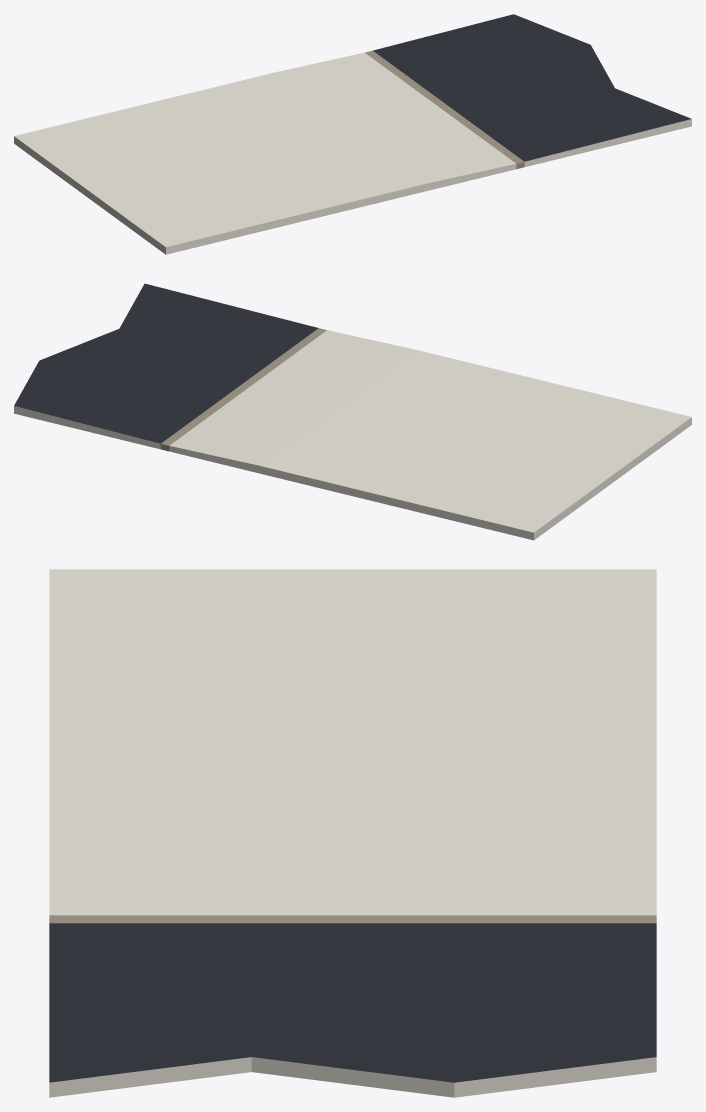
The model's file is ticket_stub.glb.
The picture shows the model from 3 angles, top to bottom: view 1: azimuth 30°, elevation 25°; view 2: azimuth 150°, elevation 25°; view 3: azimuth 270°, elevation 25°; orthographic projection. The views are drawn at different scales.
Parts seen in each view (by area): view 1: ticket_stub; view 2: ticket_stub; view 3: ticket_stub.
Part boxes in pixels (x1,y1,x2,y2): ticket_stub: [14, 14, 691, 254]; ticket_stub: [14, 283, 691, 540]; ticket_stub: [49, 569, 656, 1097].
Size of the model in its own units: 0.11 by 0.0015 by 0.055.
